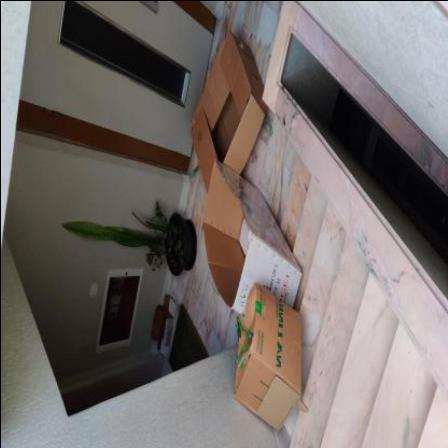Carton: (203, 160, 302, 317), (191, 30, 269, 193), (235, 284, 309, 432), (151, 295, 177, 359)
